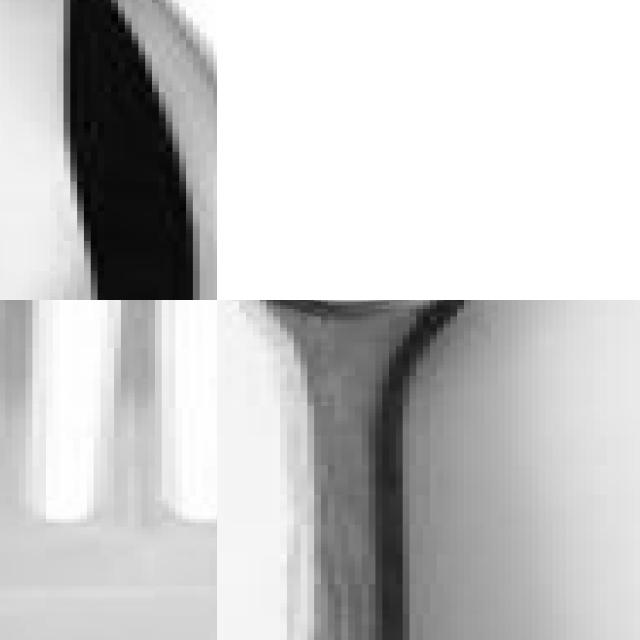forks: (0, 300, 217, 640)
spoons: (0, 0, 217, 300)
